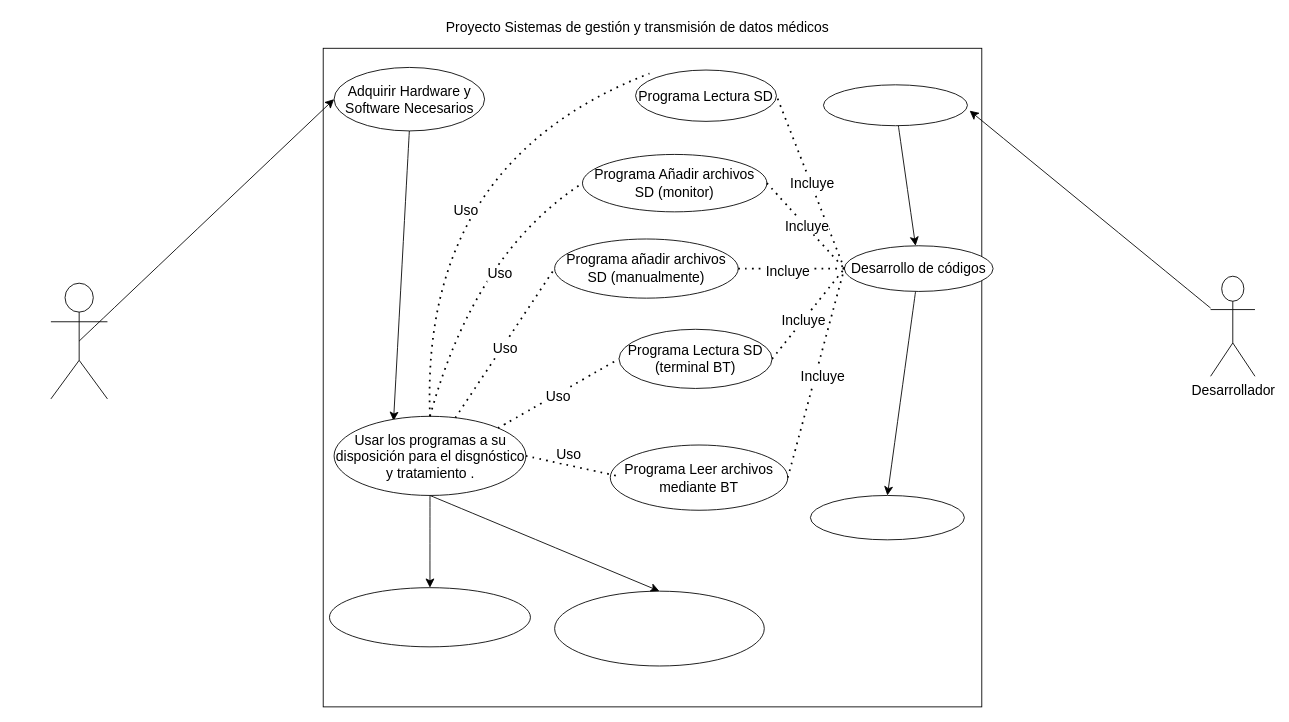
Image size: 1289x722. Some labels were removed from this diagram. Here are the shapes that lost their labels. From the top down, the centre of each, then its label:
At pixel 895 105: "Montaje de circuitos".
At pixel 78 340: "Profesional Sanitario".
At pixel 887 517: "Realización de pruebas".
At pixel 429 617: "Añadir archivos a la memoria SD".
At pixel 659 628: "Leerlos mediante Bluetooth".
